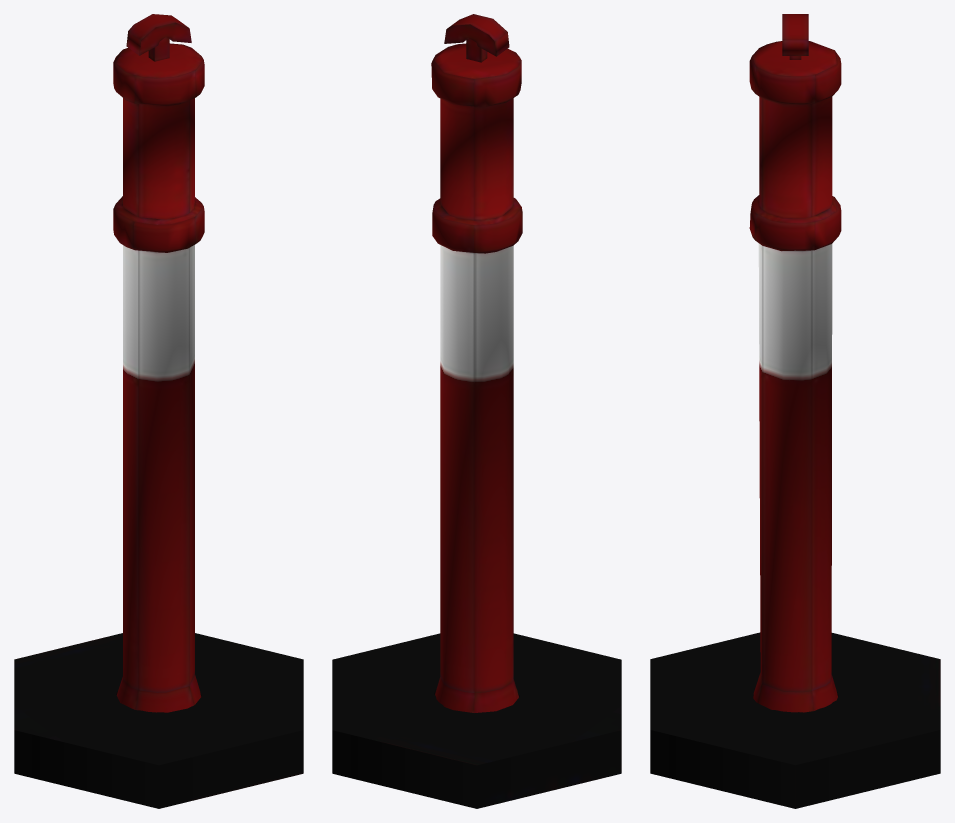
The model's file is road-pole.lod0.glb.
The picture shows the model from 3 angles, left to right: view 1: azimuth 30°, elevation 25°; view 2: azimuth 150°, elevation 25°; view 3: azimuth 270°, elevation 25°; orthographic projection.
Visible parts, largest first — view 1: Object_4; view 2: Object_4; view 3: Object_4.
Boxes of the visible parts, left/top/right/bottom form: Object_4: left=14, top=14, right=303, bottom=808; Object_4: left=332, top=14, right=621, bottom=808; Object_4: left=650, top=14, right=940, bottom=808.
Size of the model in its own units: 0.463 by 1.1 by 0.401.
1 material, 1 textured.
